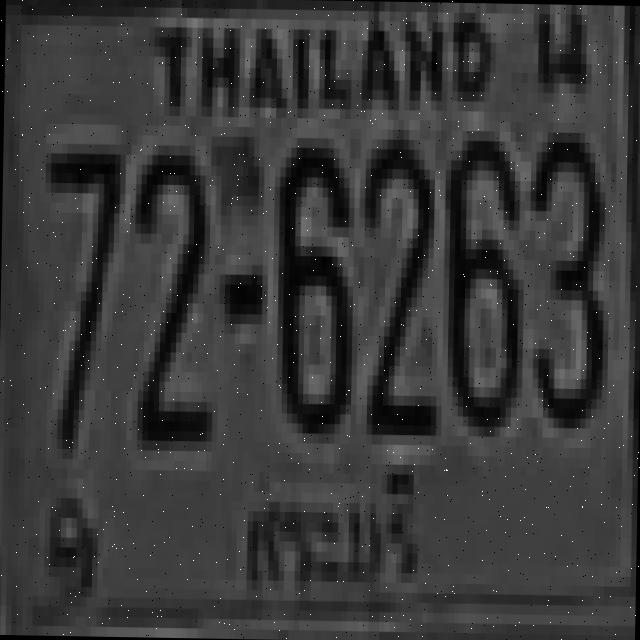2: (131, 140, 211, 436), (361, 128, 436, 426)
3: (526, 122, 606, 419)
6: (441, 130, 521, 427), (270, 137, 350, 424)
7: (41, 138, 120, 444)
SaraBuri: (235, 451, 430, 606)
